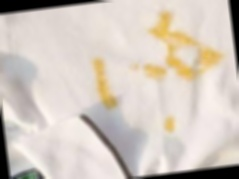mustard: (91, 57, 114, 113), (149, 8, 175, 41), (171, 29, 207, 48), (138, 57, 168, 79), (197, 48, 224, 70), (172, 60, 198, 81), (162, 35, 183, 61), (161, 109, 179, 137)
